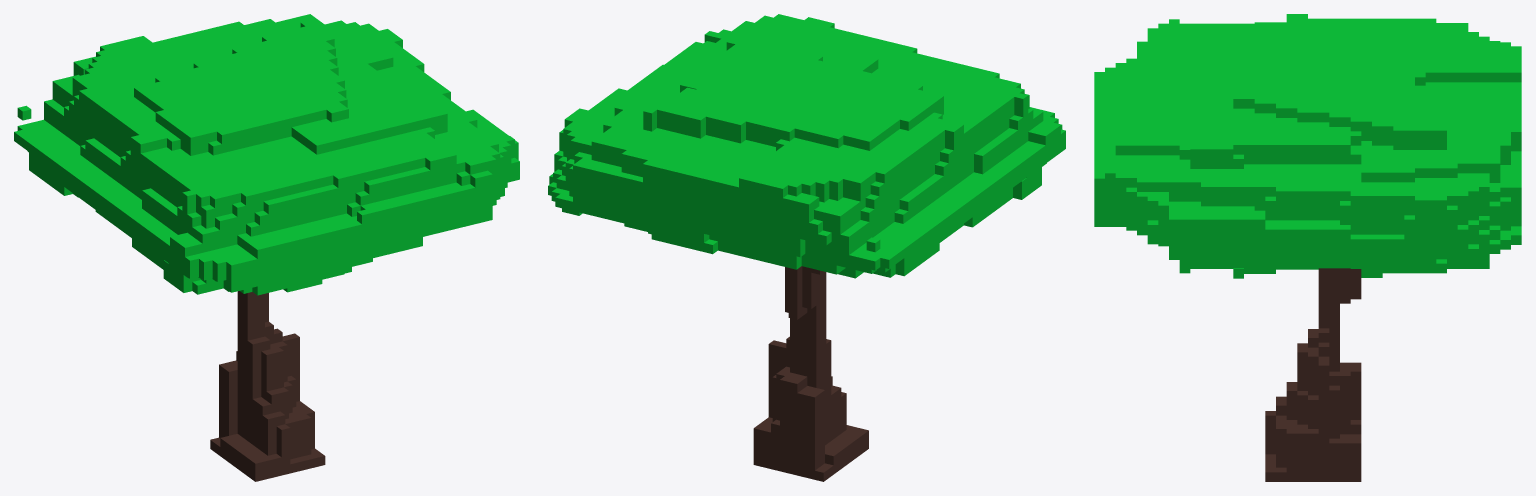
The model's file is tree-0.obj.
3 renders of one model, left to right at view 1: azimuth 30°, elevation 25°; view 2: azimuth 150°, elevation 25°; view 3: azimuth 270°, elevation 25°, orthographic. The views are drawn at different scales.
Bounding box in the file's own units: 4 × 4 × 4.
1 material, 1 textured.
